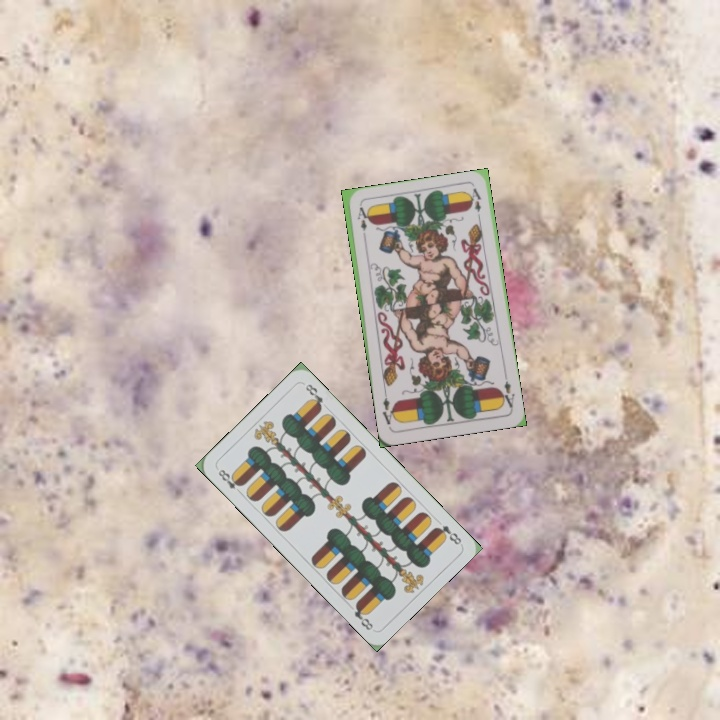E8: (214, 465, 245, 497), (430, 521, 464, 547)
EA: (497, 377, 517, 411), (353, 203, 369, 243)
